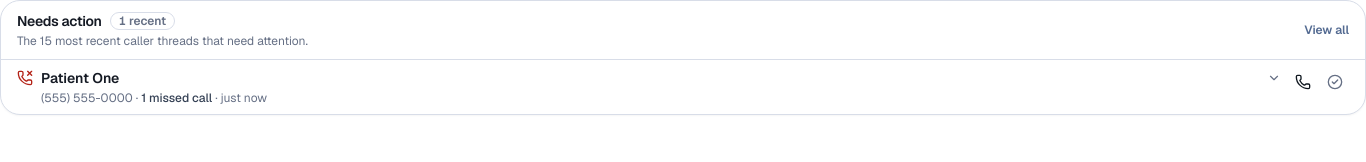
FollowUpPreview › does not restore a resolved caller from an older in-flight refresh
Expected: the text "Patient One" is shown, [41,69,119,87]
Click the button named "Mark Patient One resolved" at [1335, 82], box [1321,68,1349,96]
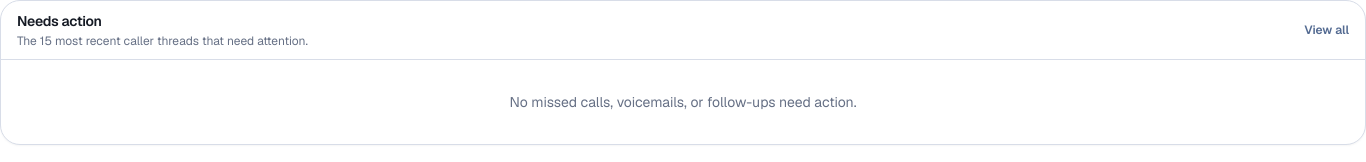
Expected: the button "Patient One" is gone
